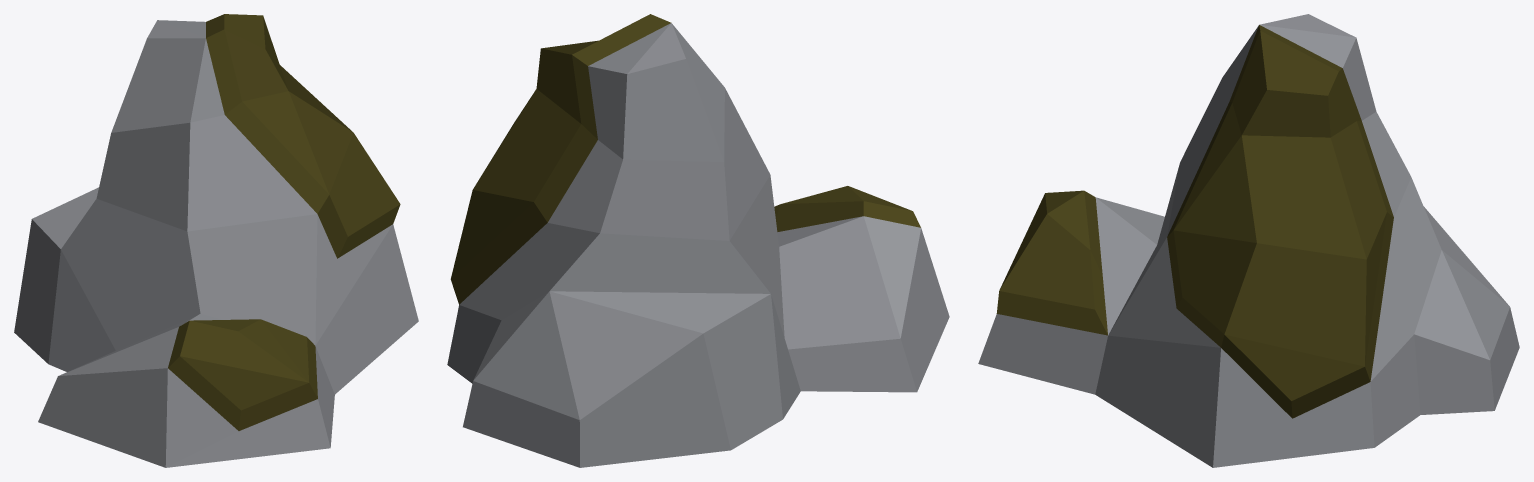
The model's file is stone_with_moss_7.fbx.
The picture shows the model from 3 angles, left to right: view 1: azimuth 30°, elevation 25°; view 2: azimuth 150°, elevation 25°; view 3: azimuth 270°, elevation 25°; orthographic projection. The views are drawn at different scales.
Parts seen in each view (by area): view 1: stone_with_moss_7; view 2: stone_with_moss_7; view 3: stone_with_moss_7.
Part boxes in pixels (bbox=[...]): stone_with_moss_7: bbox=[14, 14, 418, 467]; stone_with_moss_7: bbox=[447, 14, 949, 467]; stone_with_moss_7: bbox=[978, 14, 1519, 467].
Bounding box in the file's own units: 186 × 145 × 206.
